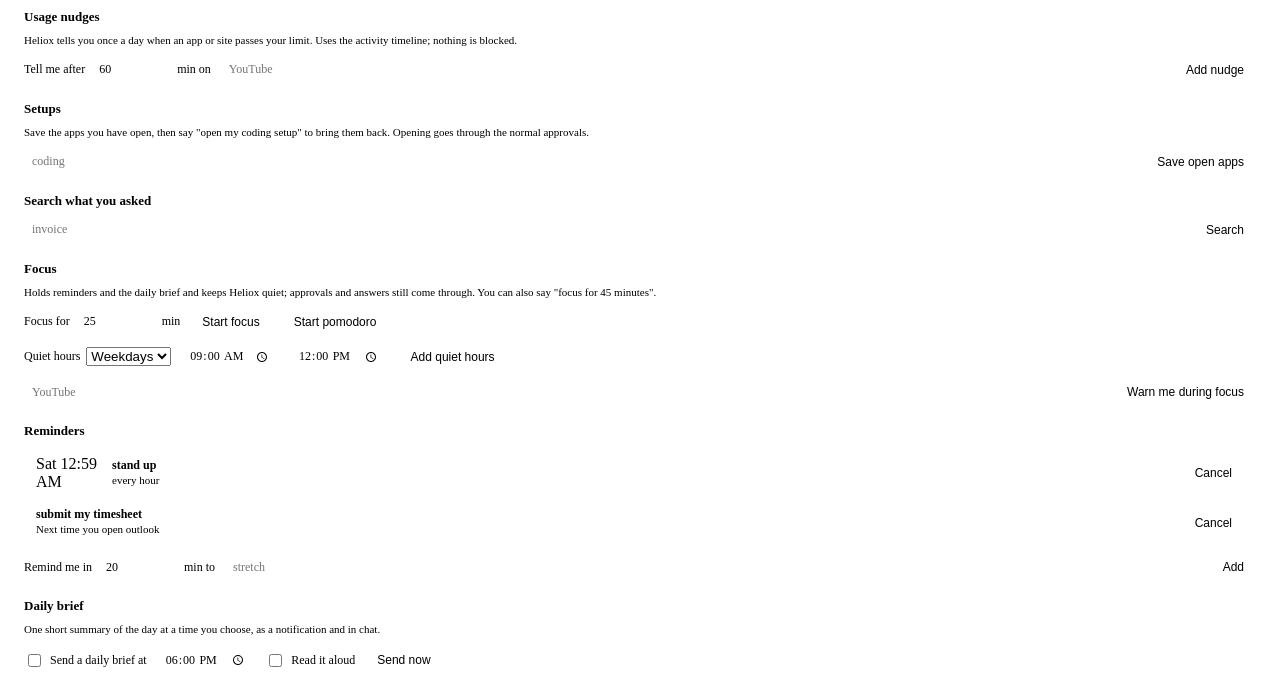
Test: TodayPanel › shows repeating and app reminders
(page scrolled)
Expected: the text "every hour" is shown, [112,474,159,486]
Expected: the text "Next time you open outlook" is shown, [36,523,159,535]
Click the button with aria-label "Cancel app reminder submit my timesheet".
click(1213, 523)  # box [1183,510,1244,536]
(page scrolled)
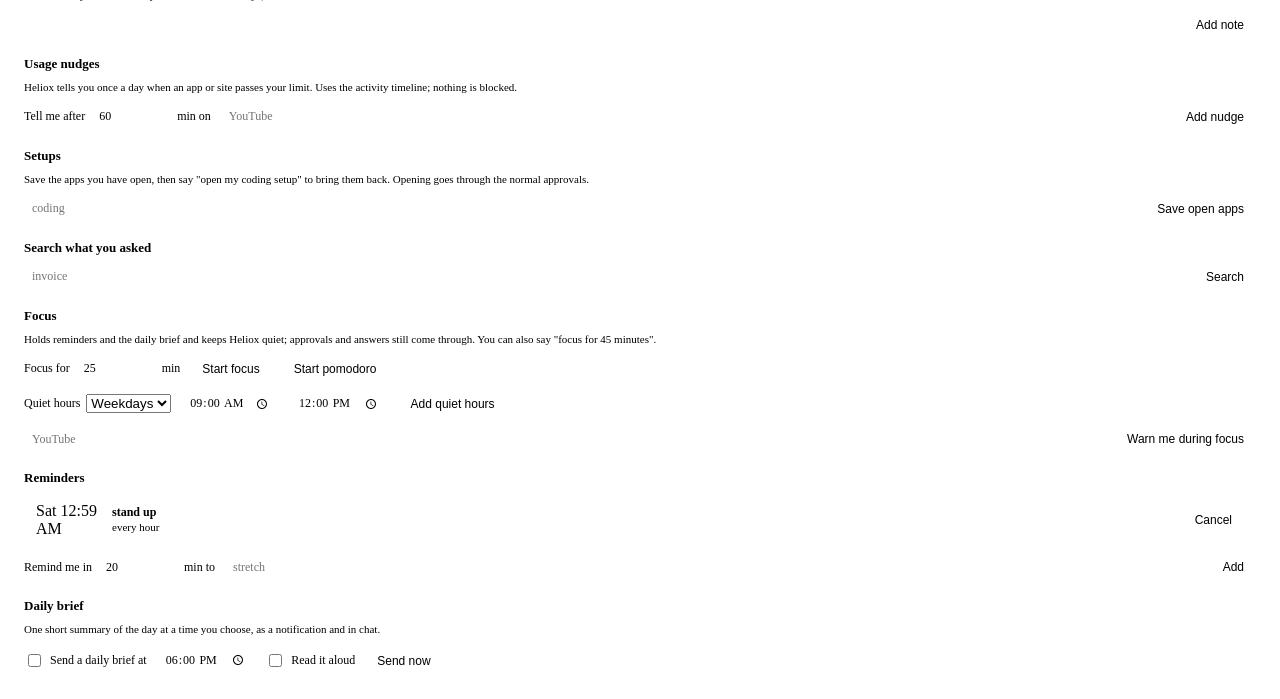
Now the text "Next time you open outlook" is gone
